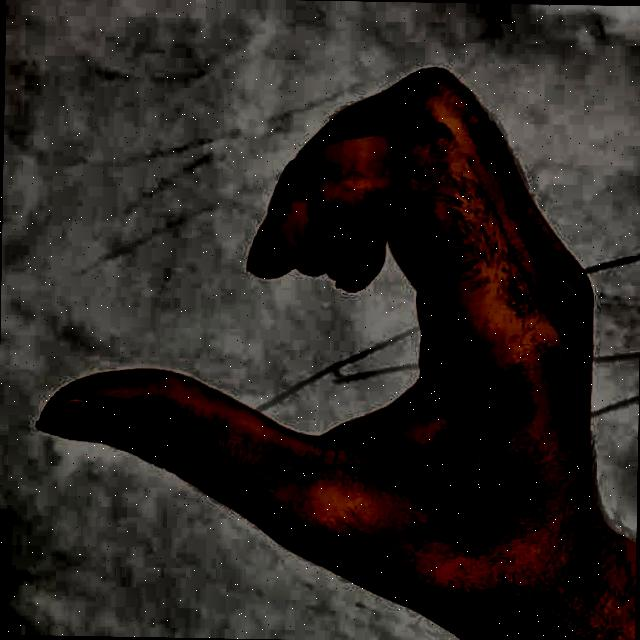Kha: (12, 9, 624, 630)
